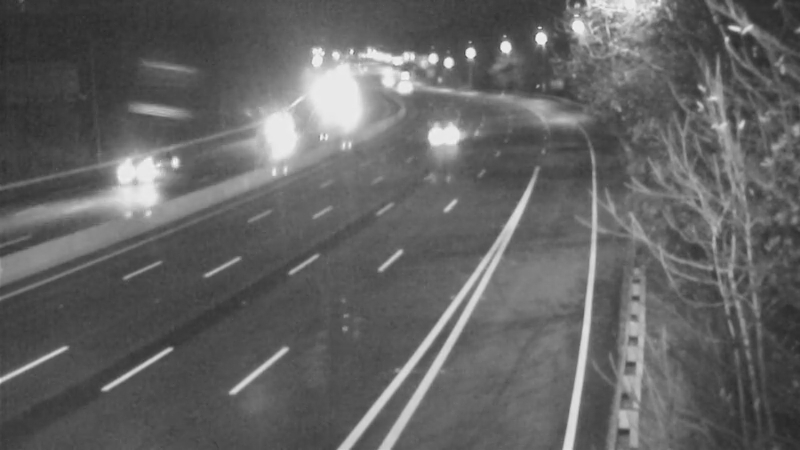vehicle: (91, 133, 171, 213), (375, 65, 425, 115), (420, 108, 470, 158), (252, 114, 302, 164)
